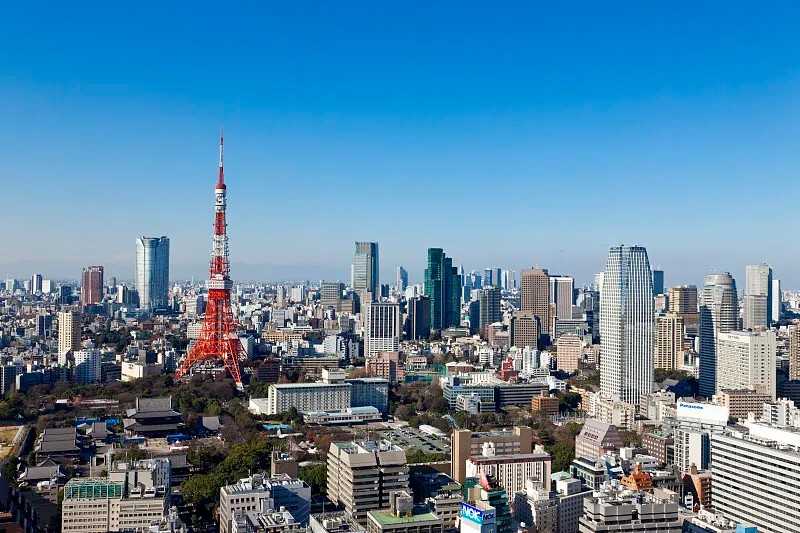Tokyo: (178, 117, 253, 396)
